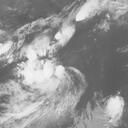cyclone: (21, 44, 88, 99)
